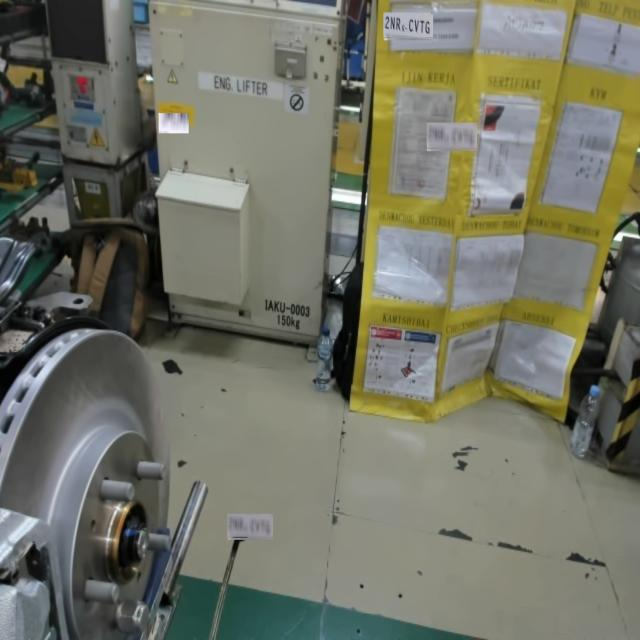Disc-SV: (40, 391, 177, 640)
